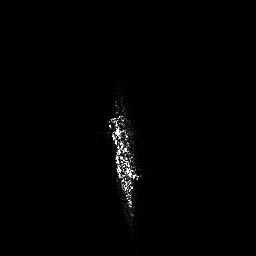ship: (100, 89, 143, 229)
